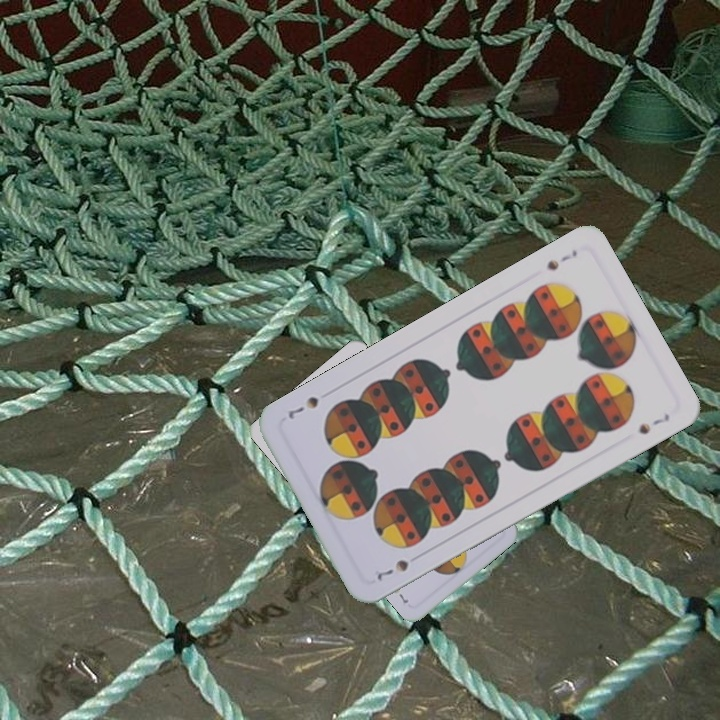S7: (372, 555, 412, 582), (542, 245, 580, 273)
